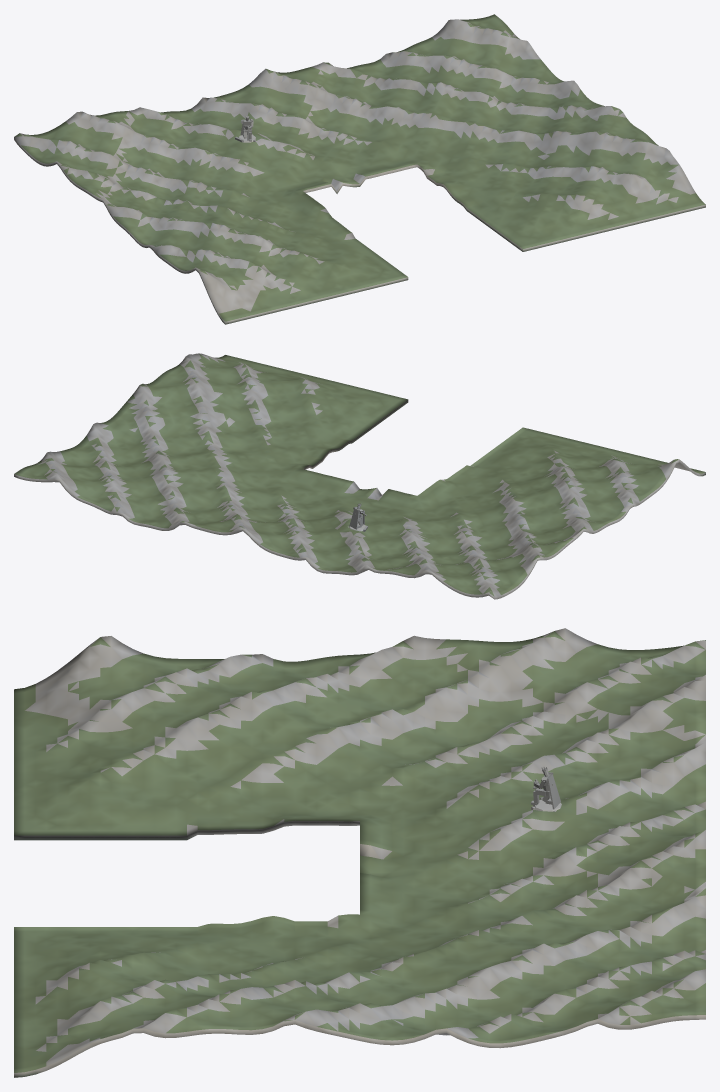
File: far.glb
3 views of the same model, one above another, from view 1: azimuth 30°, elevation 25°; view 2: azimuth 150°, elevation 25°; view 3: azimuth 270°, elevation 25° (orthographic). The views are drawn at different scales.
Parts seen in each view (by area): view 1: far_land; view 2: far_land; view 3: far_land, mass_colossus.001.
Part boxes in pixels (left/top/right/bottom): far_land: left=14, top=14, right=705, bottom=324; far_land: left=14, top=353, right=705, bottom=599; far_land: left=14, top=628, right=705, bottom=1077; mass_colossus.001: left=531, top=767, right=561, bottom=811.
Bounding box in the file's own units: 5208 × 473 × 3968.
